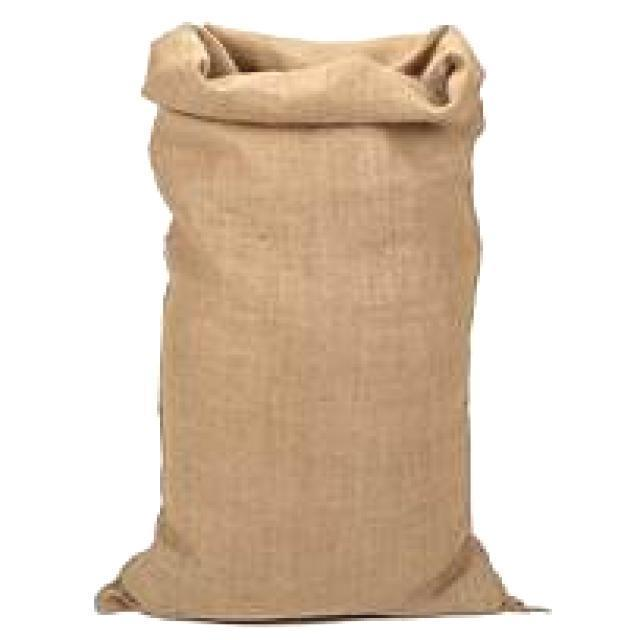gunny_bag: (88, 13, 546, 632)
